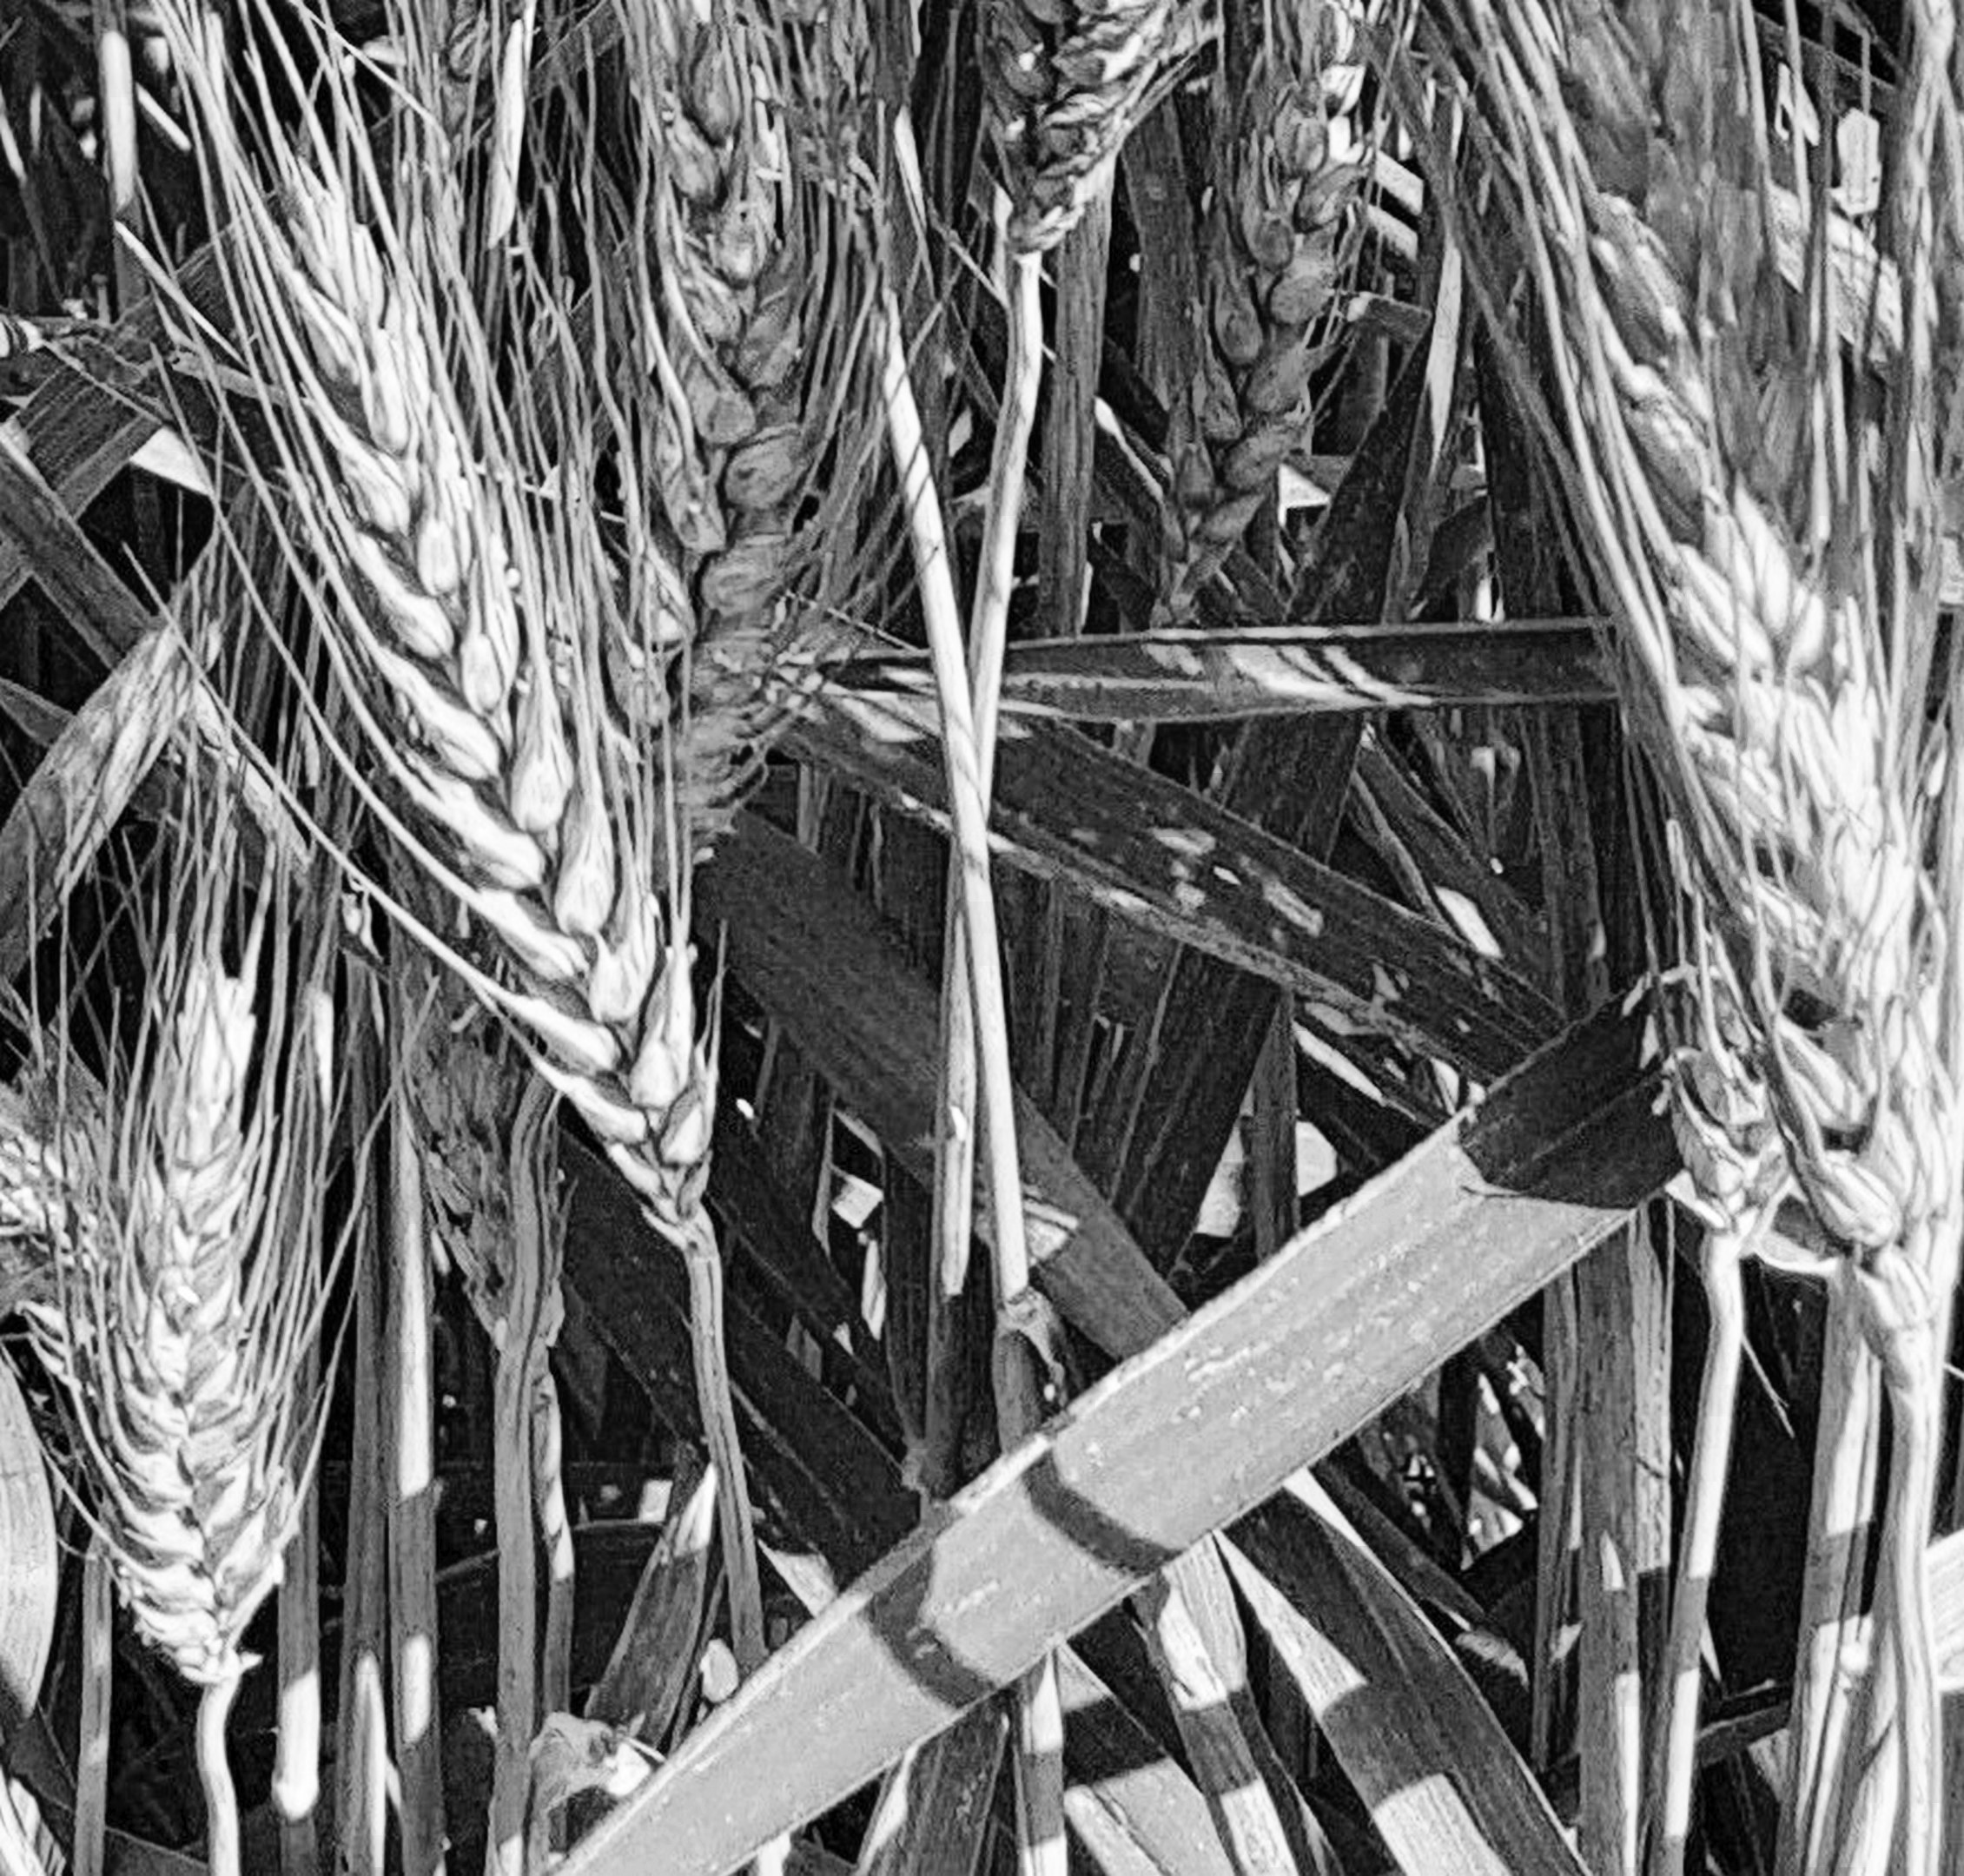Healthy Wheat: (245, 144, 808, 1168), (60, 920, 312, 1664)
